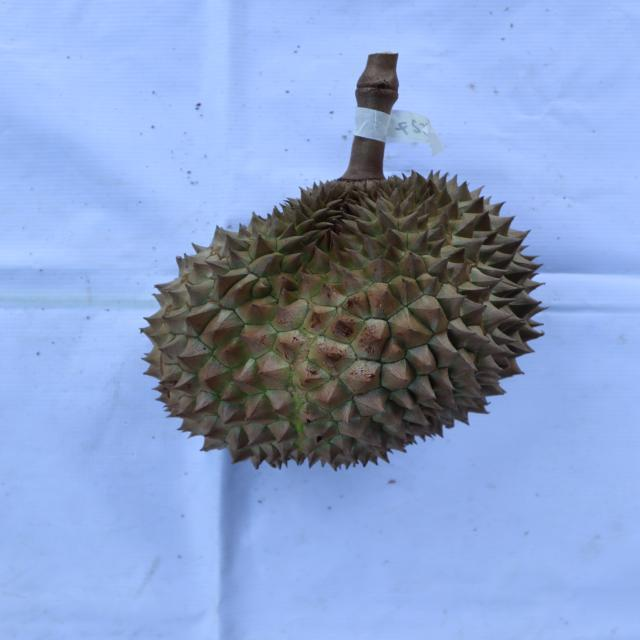mature: (141, 166, 546, 471)
